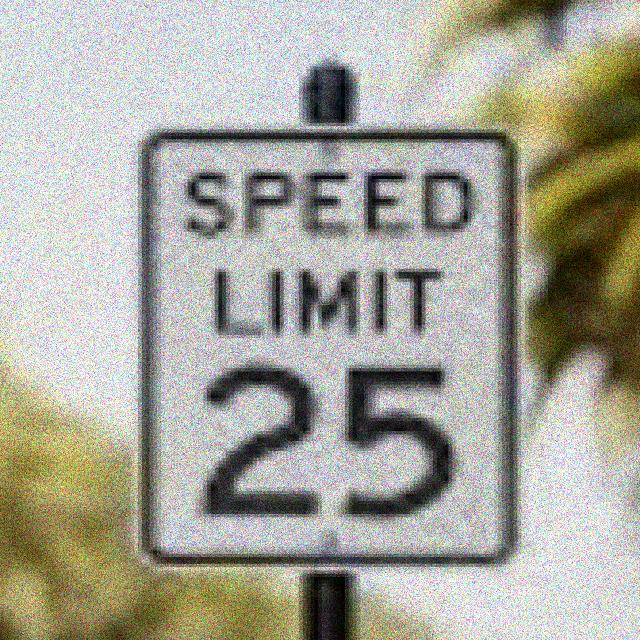speedLimit25: (144, 124, 505, 566)
